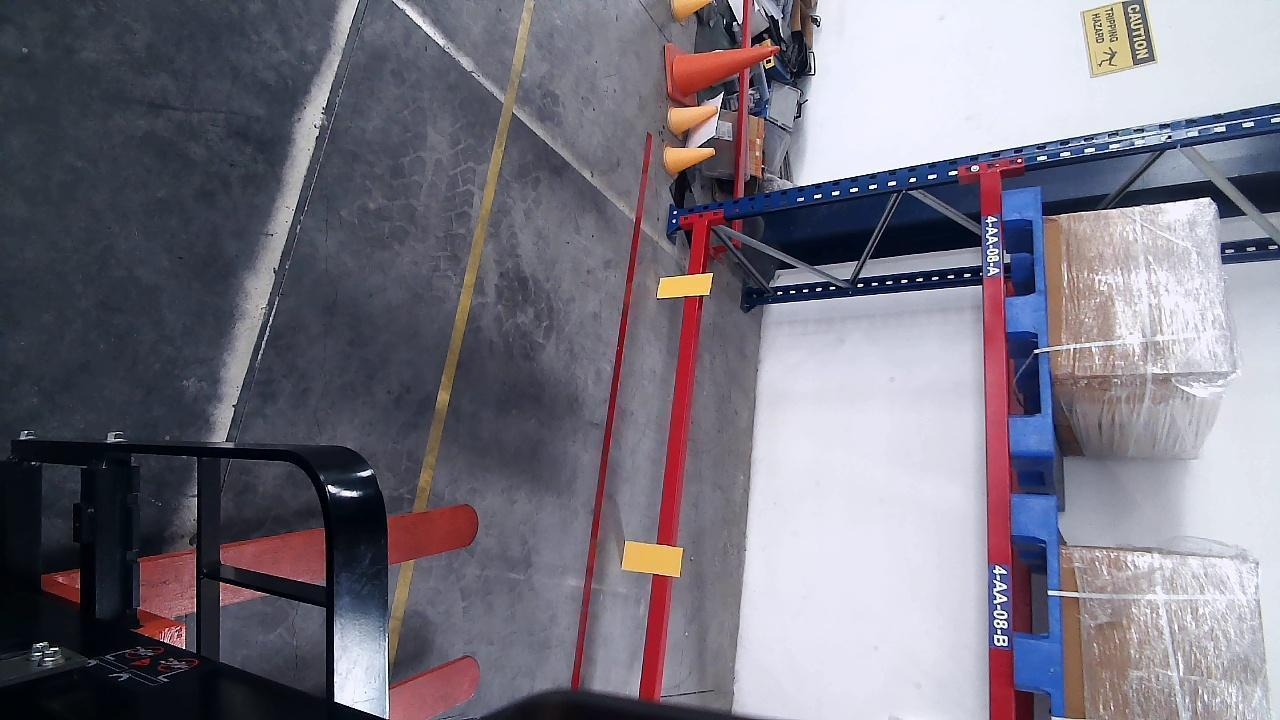red_line: (574, 133, 654, 688)
yellow_line: (413, 2, 534, 511)
